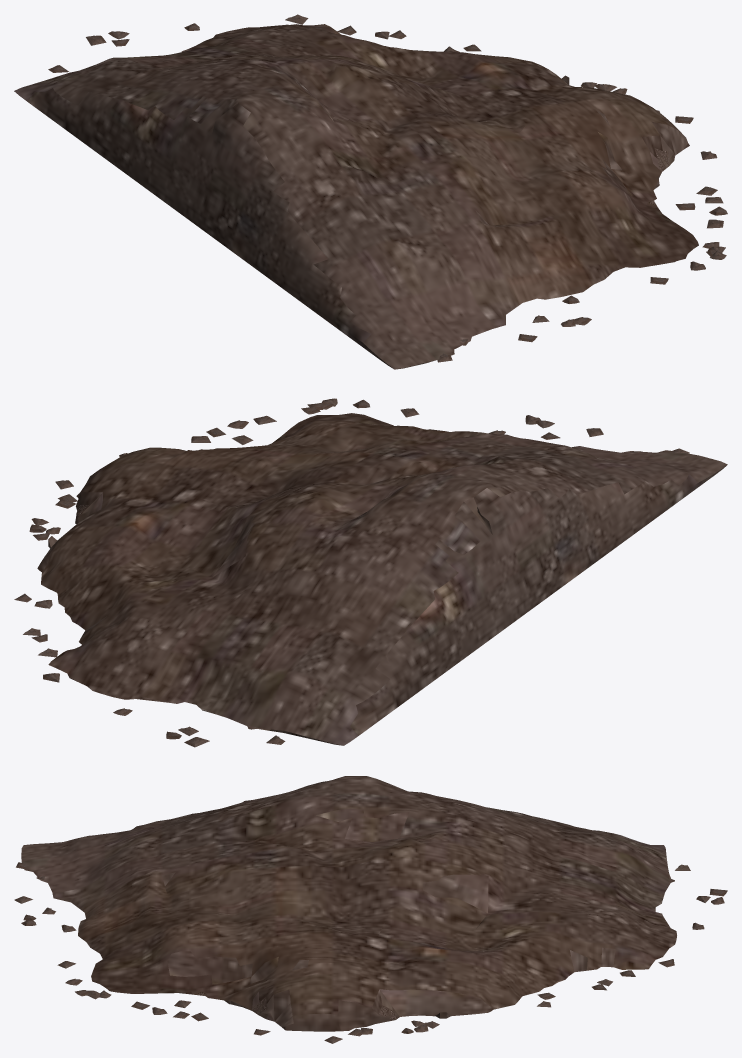
Rendered from pileofdirt2.glb.
3 renders of one model, top to bottom at view 1: azimuth 30°, elevation 25°; view 2: azimuth 150°, elevation 25°; view 3: azimuth 270°, elevation 25°, orthographic. The views are drawn at different scales.
Visible parts, largest first — view 1: Pile; view 2: Pile; view 3: Pile.
Part boxes in pixels (left/top/right/bottom): Pile: left=14, top=14, right=727, bottom=369; Pile: left=14, top=398, right=727, bottom=747; Pile: left=14, top=776, right=727, bottom=1043.
Bounding box in the file's own units: 3.24 × 0.6932 × 4.92.
Materials: 1 (1 with a texture image).
